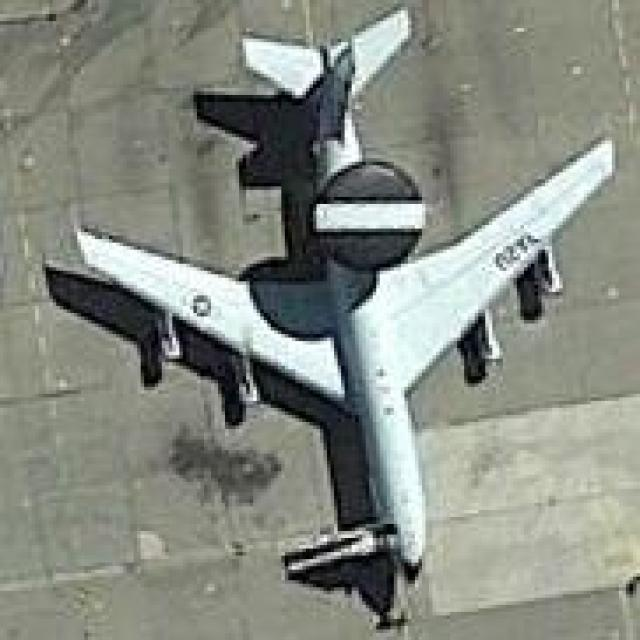E-3_TopDown: (39, 7, 619, 626)
